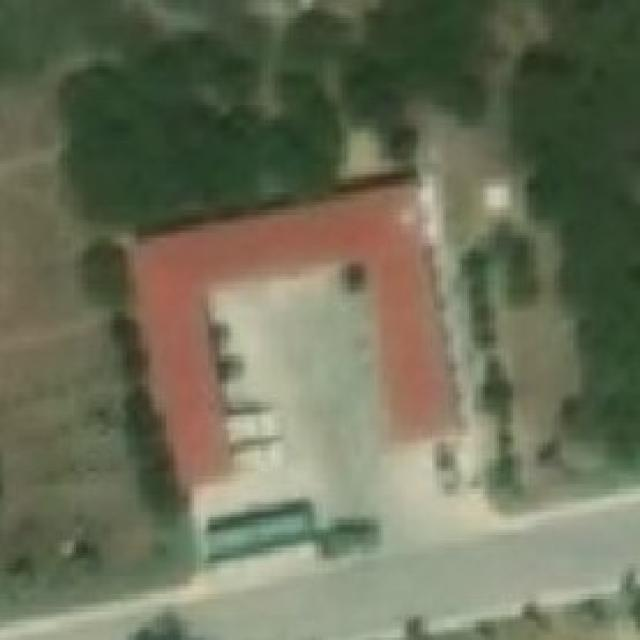Batiment: (136, 187, 456, 485)
